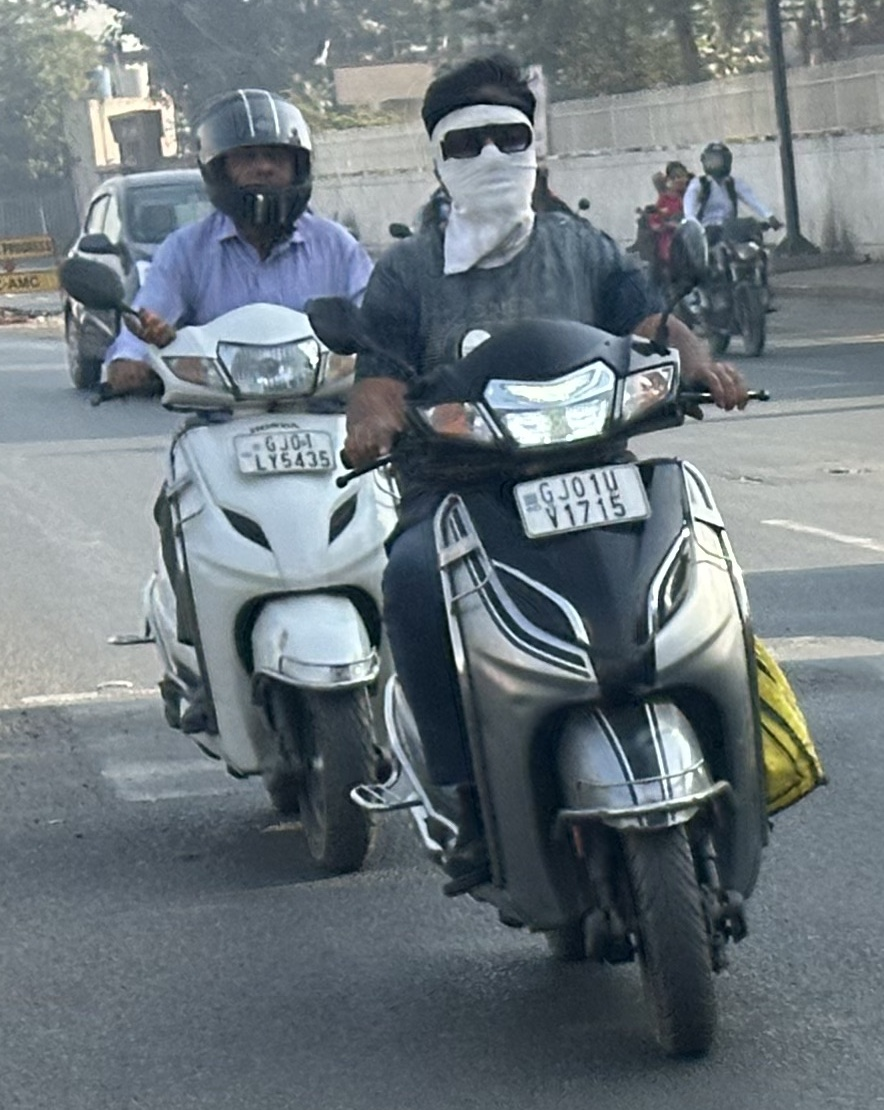BikeWithRider: (293, 50, 834, 1068), (51, 72, 415, 878), (670, 129, 788, 362)
Helmet: (181, 76, 325, 240)
NoHelmet: (399, 45, 567, 247)
